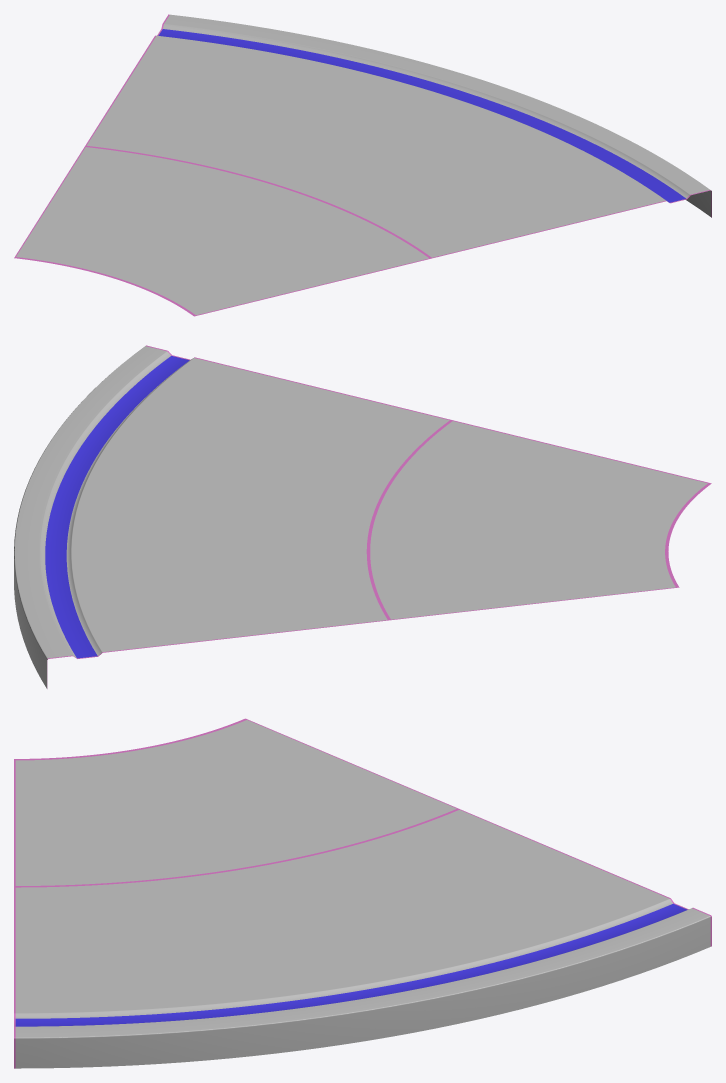
File: StudioLuxuryFloorSegment_01_Mesh.fbx
The picture shows the model from 3 angles, top to bottom: view 1: azimuth 30°, elevation 25°; view 2: azimuth 150°, elevation 25°; view 3: azimuth 270°, elevation 25°; orthographic projection. The views are drawn at different scales.
Parts seen in each view (by area): view 1: Lighting_Studio_Luxury_FloorSegment_01; view 2: Lighting_Studio_Luxury_FloorSegment_01; view 3: Lighting_Studio_Luxury_FloorSegment_01.
Part boxes in pixels (<box>): Lighting_Studio_Luxury_FloorSegment_01: <box>14,14,711,316</box>; Lighting_Studio_Luxury_FloorSegment_01: <box>14,345,711,688</box>; Lighting_Studio_Luxury_FloorSegment_01: <box>14,718,711,1068</box>.
Size of the model in its own units: 440 by 19.71 by 406.
